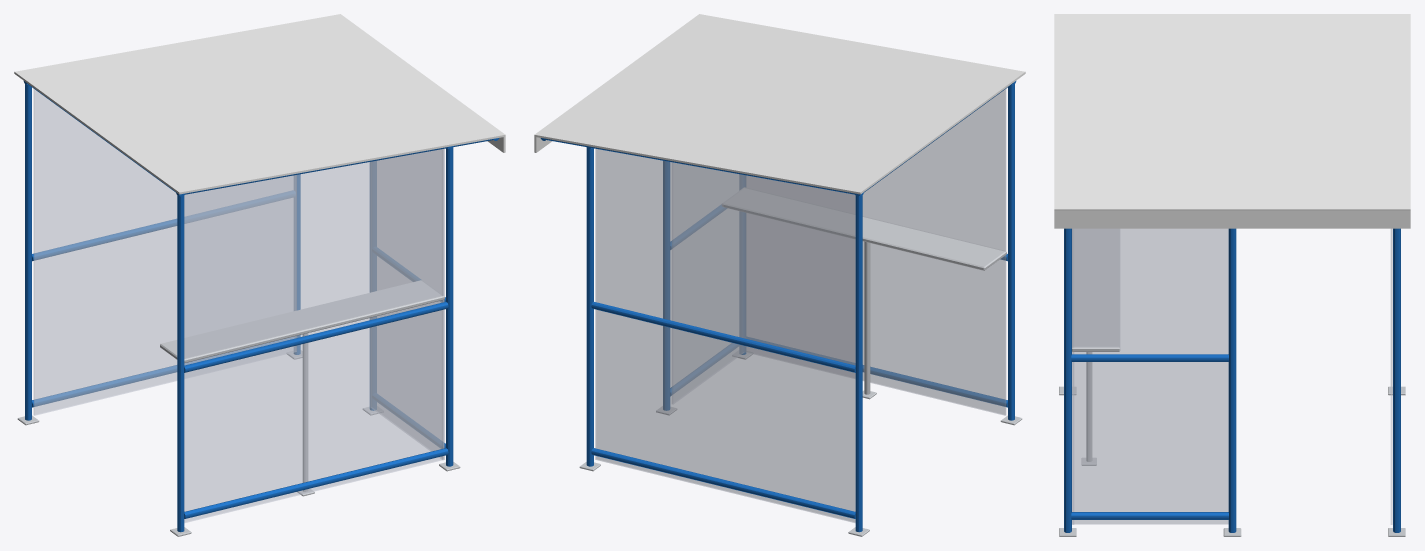
The model's file is porche_nylon.glb.
3 renders of one model, left to right at view 1: azimuth 30°, elevation 25°; view 2: azimuth 150°, elevation 25°; view 3: azimuth 270°, elevation 25°, orthographic. The views are drawn at different scales.
Parts seen in each view (by area): view 1: porche_nylon_panos, porche_nylon_marco; view 2: porche_nylon_panos, porche_nylon_marco; view 3: porche_nylon_marco, porche_nylon_panos.
Boxes of the visible parts, x1,y1,x2,y2 form: porche_nylon_panos: [33, 89, 444, 522]; porche_nylon_marco: [14, 14, 505, 536]; porche_nylon_panos: [595, 89, 1006, 522]; porche_nylon_marco: [534, 14, 1025, 536]; porche_nylon_marco: [1054, 14, 1410, 536]; porche_nylon_panos: [1072, 228, 1392, 524].
Size of what is drawn, in the model's own units: 2.1 by 2.13 by 1.84.
